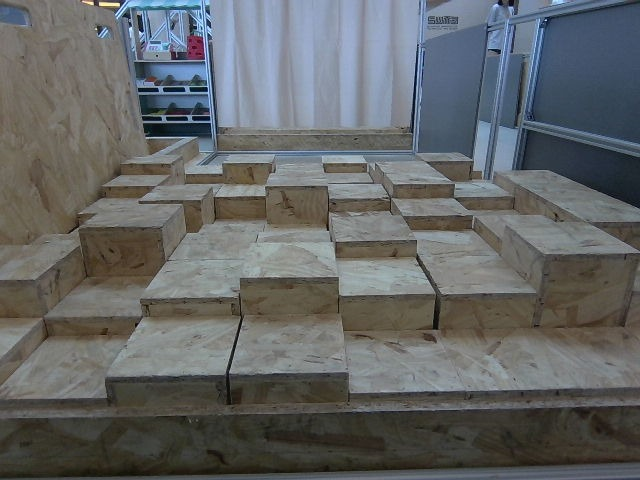curtain: (211, 0, 416, 132)
